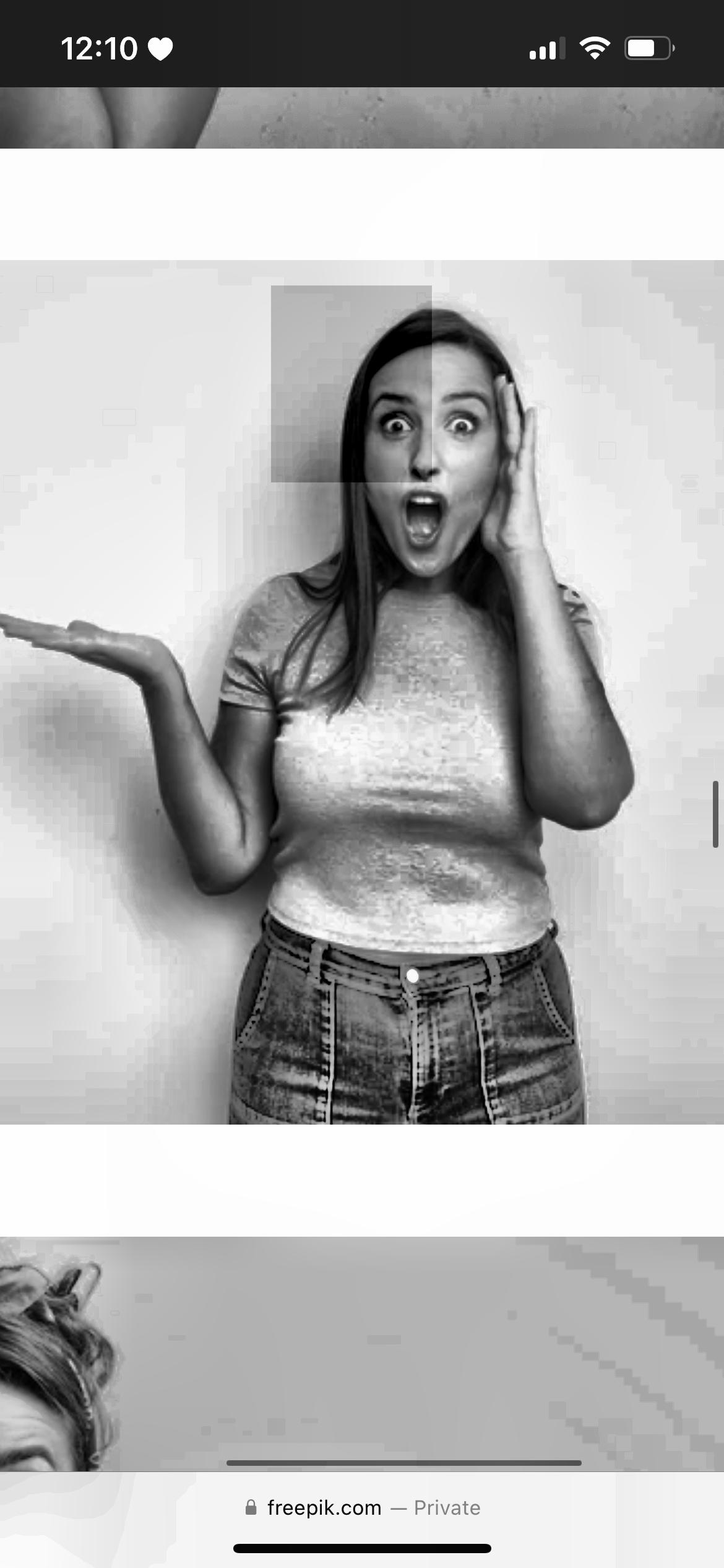surprised: (335, 353, 534, 596)
